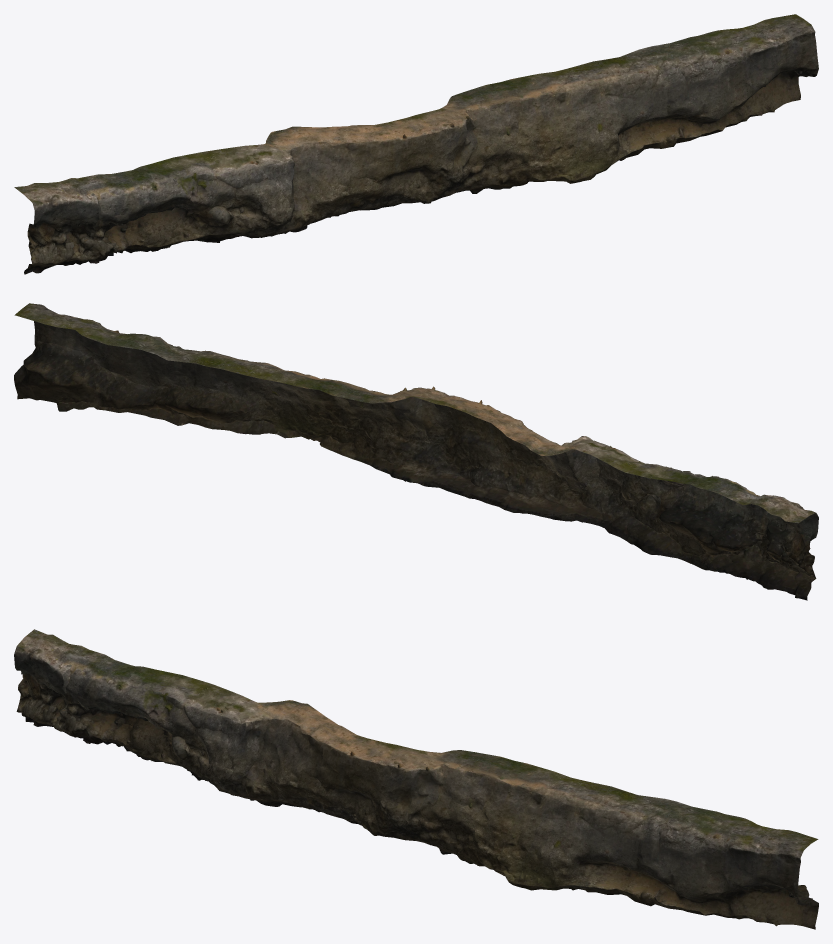
File: cliff.glb
The picture shows the model from 3 angles, top to bottom: view 1: azimuth 30°, elevation 25°; view 2: azimuth 150°, elevation 25°; view 3: azimuth 330°, elevation 25°; orthographic projection. The views are drawn at different scales.
Parts seen in each view (by area): view 1: coastal_cliff_01; view 2: coastal_cliff_01; view 3: coastal_cliff_01.
Part boxes in pixels (x1,y1,x2,y2): coastal_cliff_01: (14,14,818,274); coastal_cliff_01: (14,303,818,600); coastal_cliff_01: (14,629,818,929).
Bounding box in the file's own units: 91.94 × 10.26 × 10.97.
Materials: 1 (1 with a texture image).
